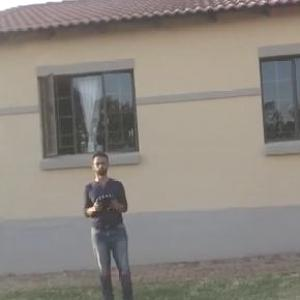follow: (78, 148, 138, 299)
